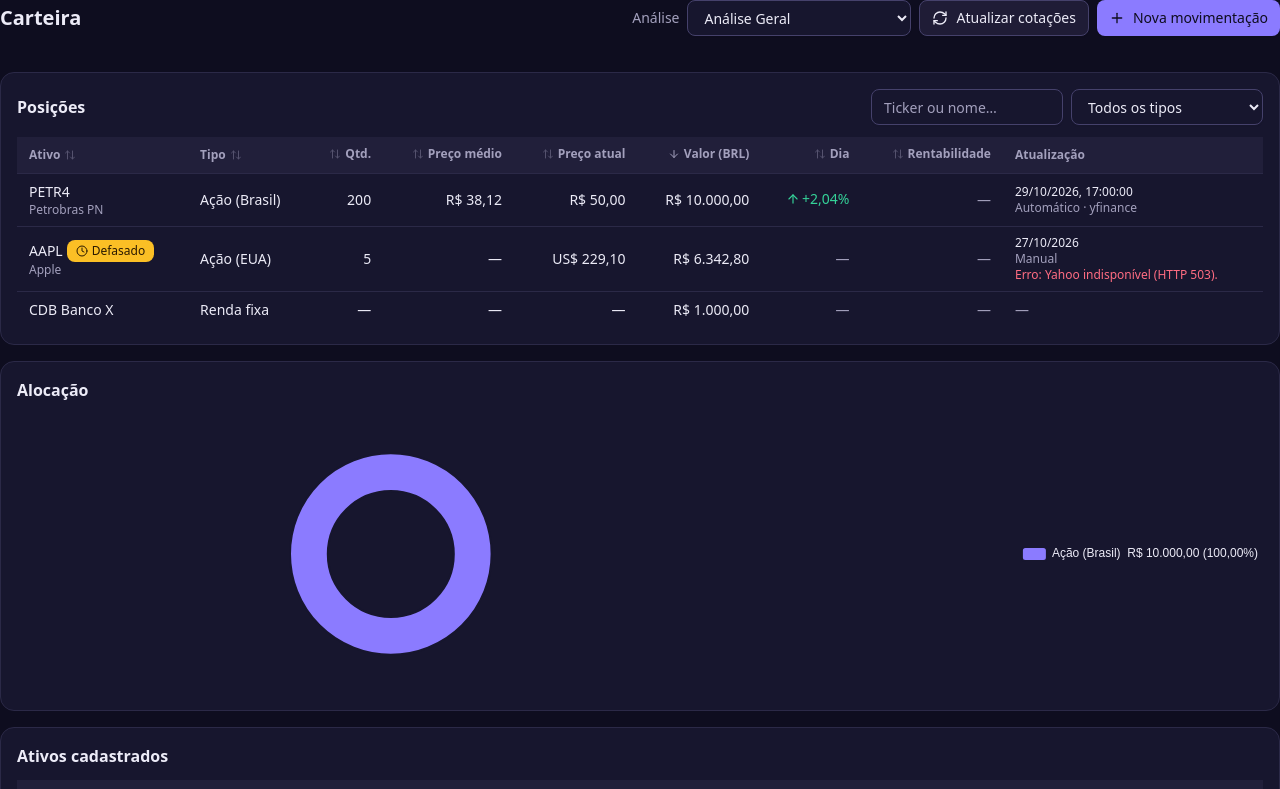
it: Carteira › atualização forçada não trava e mostra o 409 de ciclo em andamento
The image size is (1280, 789).
Click the button "Atualizar cotações": (1004, 18) [920,0,1089,36]
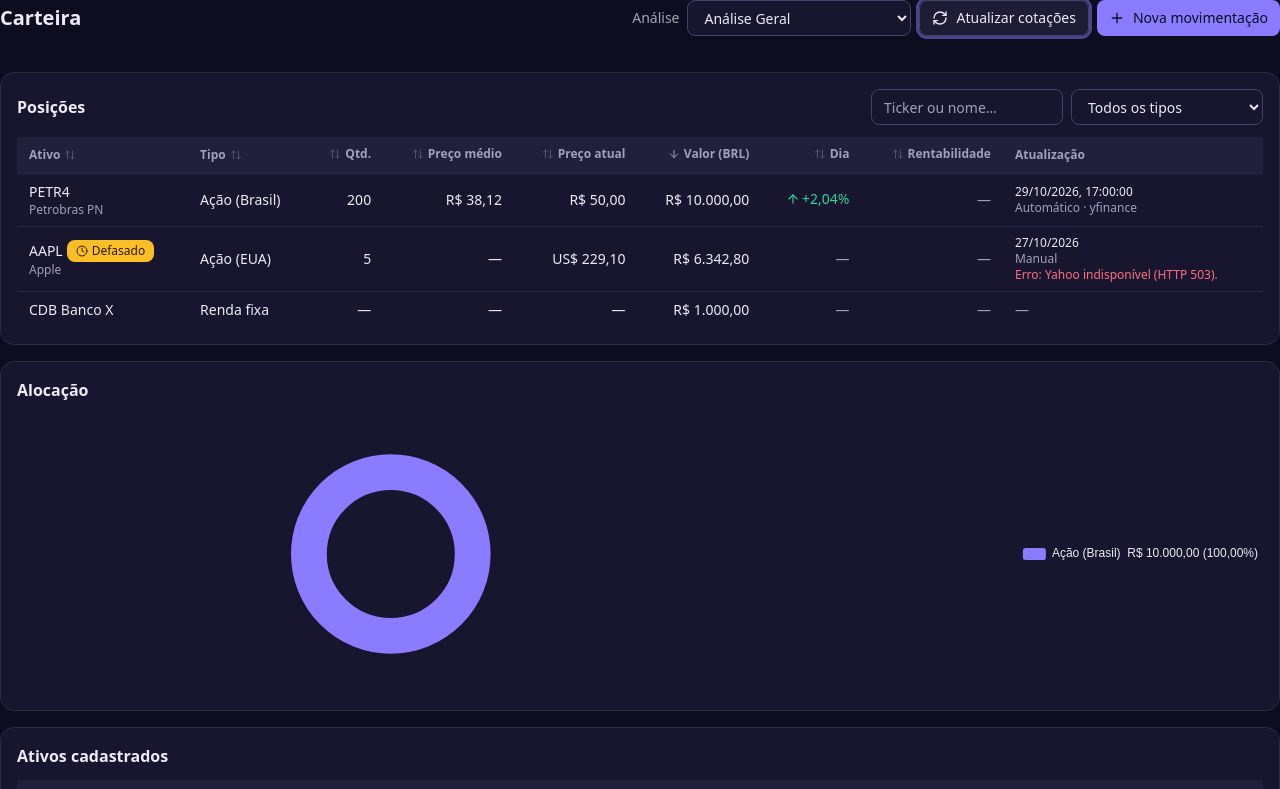
Click the button "Atualizar cotações": (1004, 18) [920,0,1089,36]
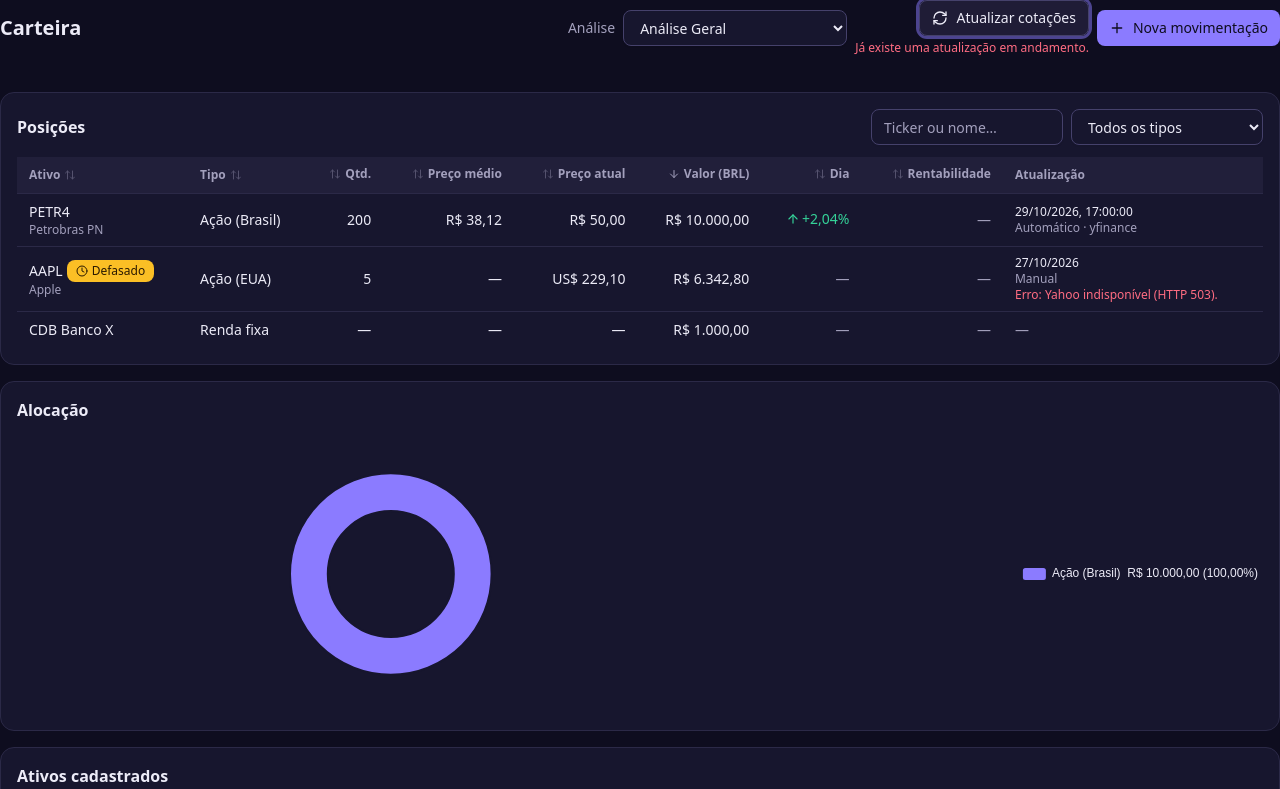
Expected: the text "Já existe uma atualização em andamento." is shown, [855,40,1089,56]
